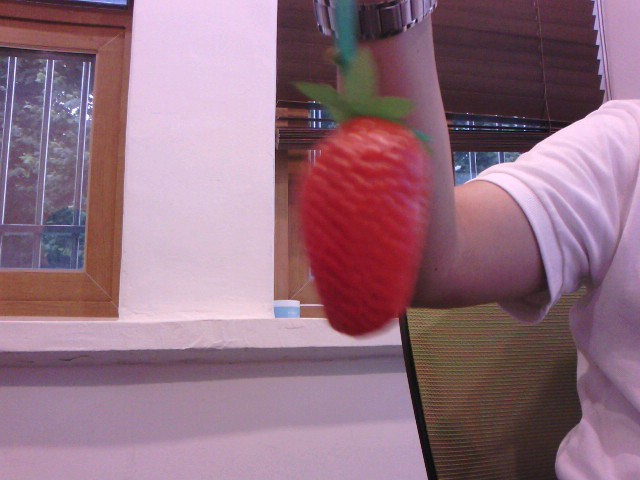strawberry: (290, 107, 433, 344)
